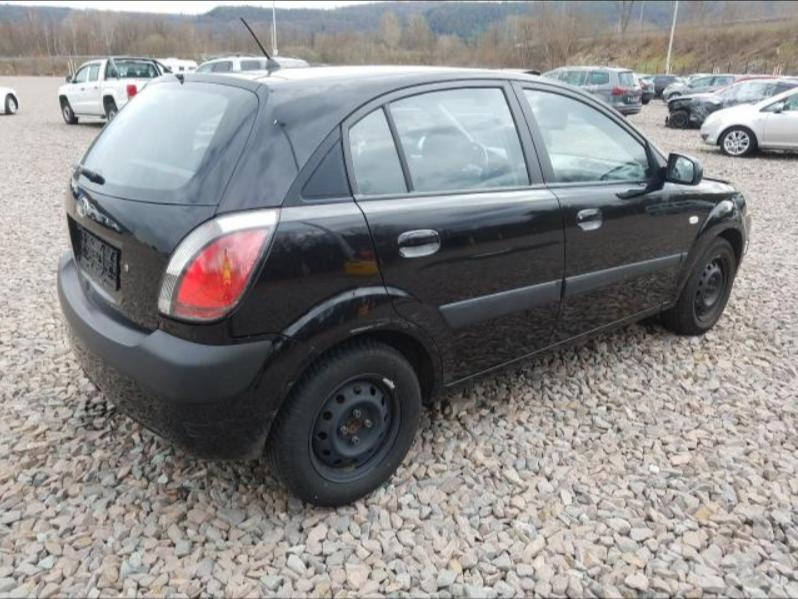Broken part: (156, 312, 320, 356)
Missing part: (76, 223, 117, 288)
Paint chip: (317, 309, 335, 322), (317, 308, 329, 315)
Scratch: (348, 317, 427, 333)
